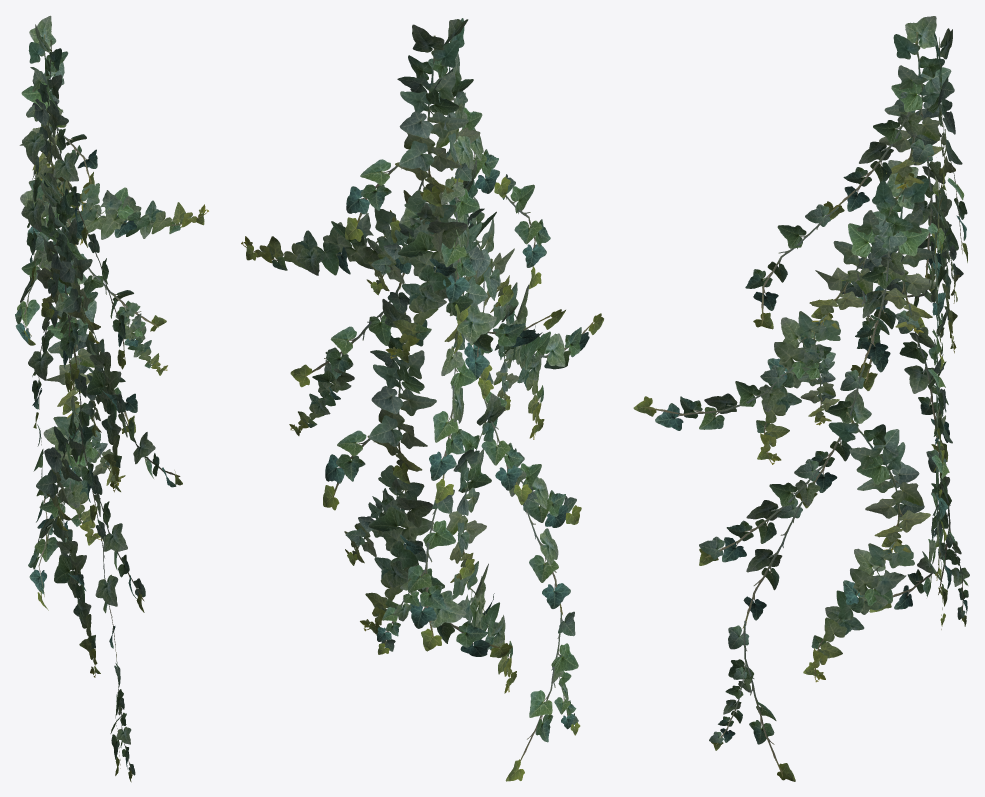
The model's file is sm_Ivy_01_07.fbx.
3 views of the same model, side by side, from view 1: azimuth 30°, elevation 25°; view 2: azimuth 150°, elevation 25°; view 3: azimuth 270°, elevation 25° (orthographic). The views are drawn at different scales.
Visible parts, largest first — view 1: sm_Ivy_01_07; view 2: sm_Ivy_01_07; view 3: sm_Ivy_01_07.
Part boxes in pixels (left/top/right/bottom): sm_Ivy_01_07: left=15, top=15, right=208, bottom=782; sm_Ivy_01_07: left=241, top=18, right=603, bottom=781; sm_Ivy_01_07: left=633, top=16, right=969, bottom=781.
Bounding box in the file's own units: 85.09 × 99.68 × 248.
